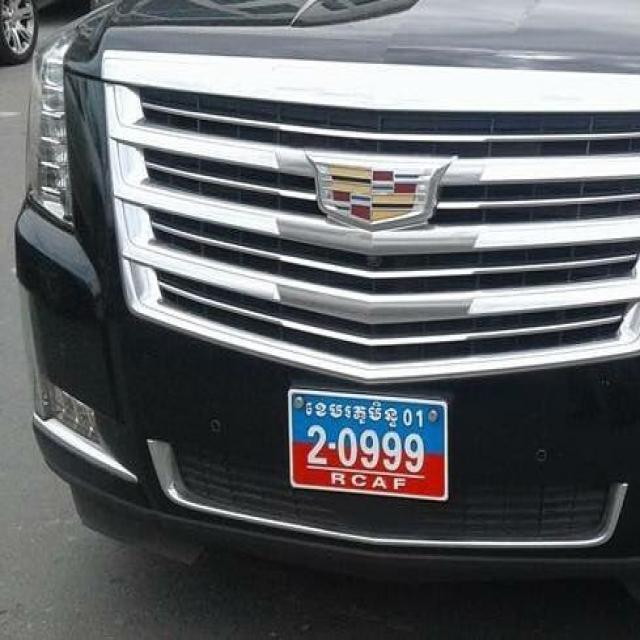RCAF: (306, 400, 398, 428)
